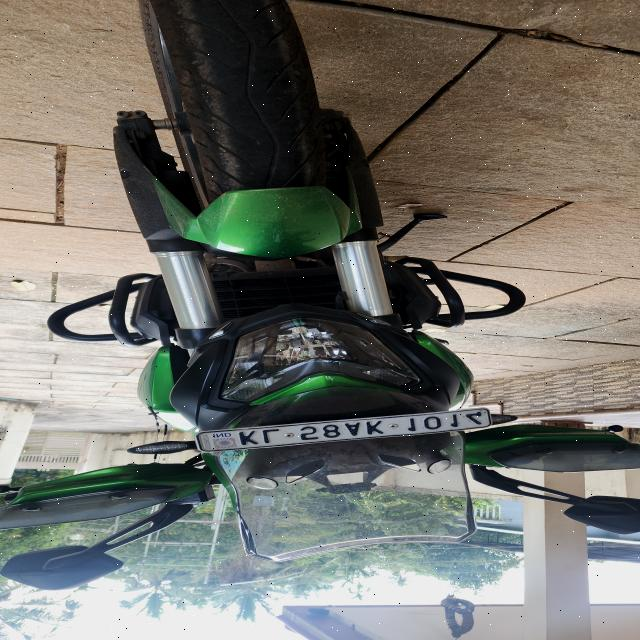headlight: (220, 315, 424, 406)
